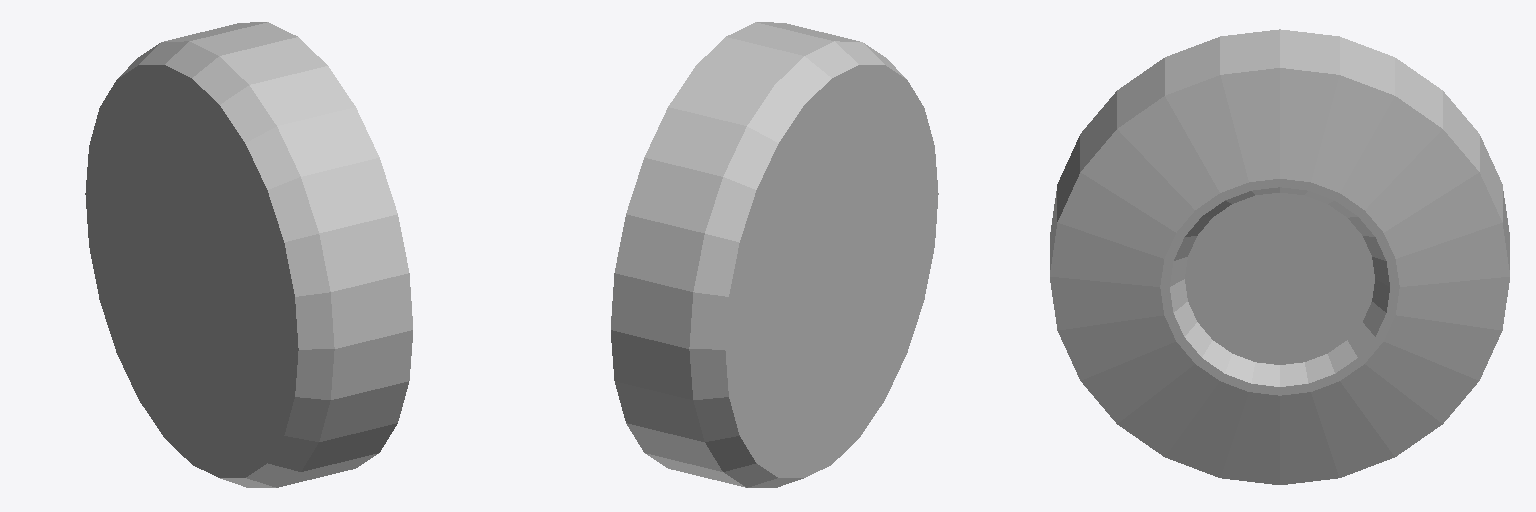
The model's file is wheel.obj.
3 views of the same model, side by side, from view 1: azimuth 30°, elevation 25°; view 2: azimuth 150°, elevation 25°; view 3: azimuth 270°, elevation 25° (orthographic).
Parts seen in each view (by area): view 1: Wheel; view 2: Wheel; view 3: Wheel.
Boxes of the visible parts, x1,y1,x2,y2 form: Wheel: [85, 22, 412, 487]; Wheel: [611, 22, 938, 487]; Wheel: [1050, 29, 1509, 484].
Size of the model in its own units: 0.1531 by 0.4776 by 0.4776.